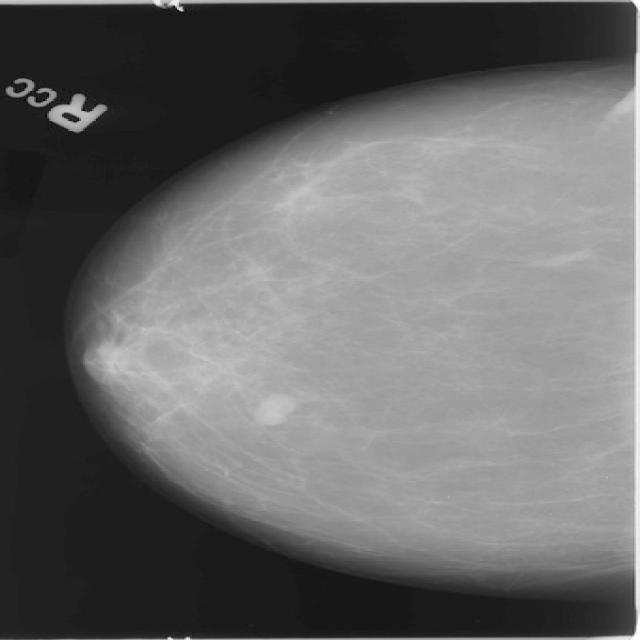tumour: (254, 392, 294, 423)
